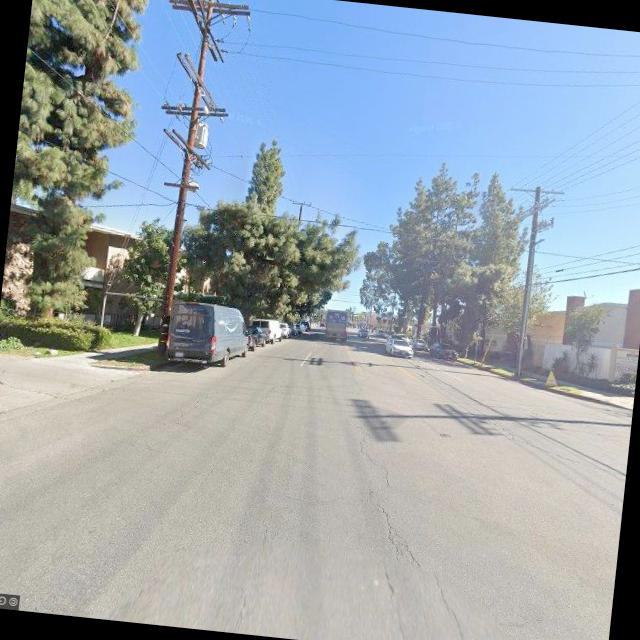pothole: (338, 416, 451, 598)
